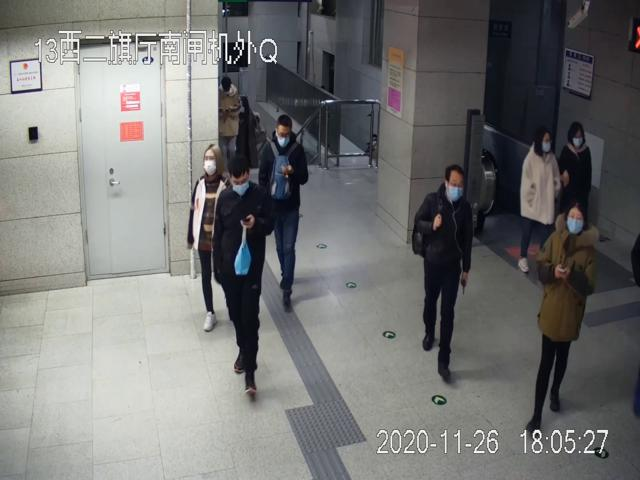person: (526, 200, 597, 430), (214, 157, 277, 394), (413, 164, 472, 384), (258, 113, 308, 312), (187, 144, 228, 333), (521, 130, 562, 268), (561, 123, 594, 226)
